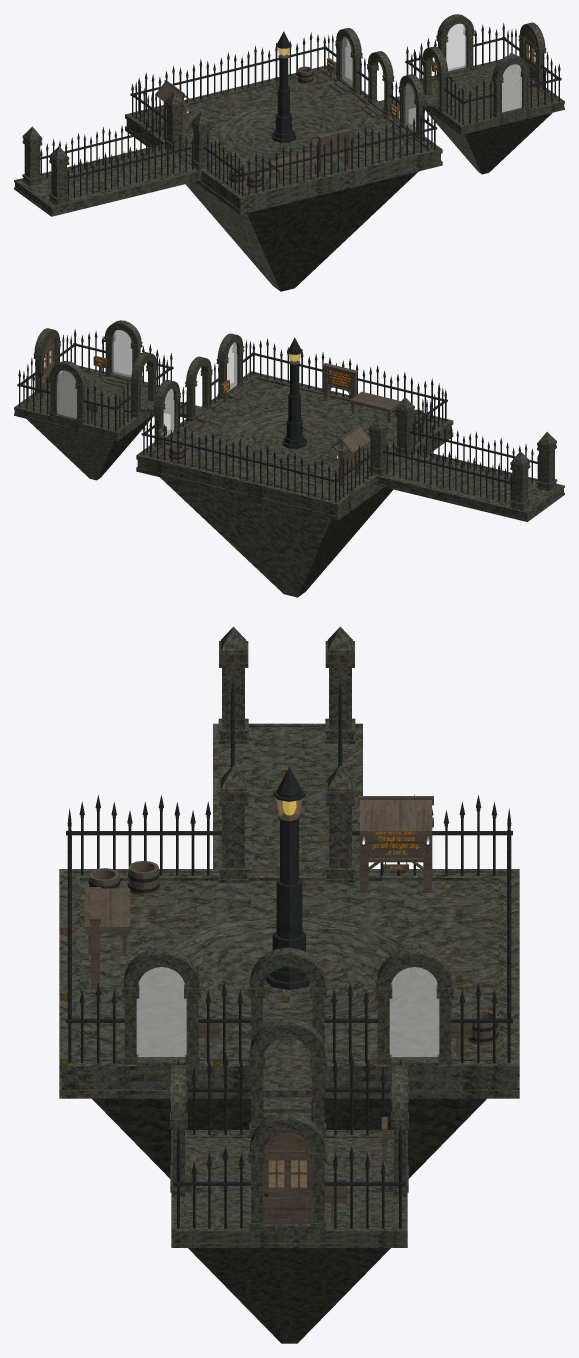
The model's file is Terminal-transformed.glb.
3 views of the same model, one above another, from view 1: azimuth 30°, elevation 25°; view 2: azimuth 150°, elevation 25°; view 3: azimuth 270°, elevation 25° (orthographic). The views are drawn at different scales.
Visible parts, largest first — view 1: Terminal, Lamppost.001, StaticDoors.002, StaticDoors.003, StaticDoors, StaticDoors.001, Door; view 2: Terminal, Lamppost.001, StaticDoors.003, StaticDoors.002, StaticDoors, StaticDoors.001, Door; view 3: Terminal, Lamppost.001, Door, StaticDoors, StaticDoors.001, Barrel.001.
Boxes of the visible parts, bbox=[...] form: Terminal: bbox=[14, 14, 564, 291]; Lamppost.001: bbox=[271, 31, 295, 142]; StaticDoors.002: bbox=[446, 23, 466, 71]; StaticDoors.003: bbox=[502, 64, 521, 112]; StaticDoors: bbox=[342, 36, 352, 86]; StaticDoors.001: bbox=[405, 83, 415, 131]; Door: bbox=[524, 31, 535, 81]; Terminal: bbox=[14, 320, 564, 597]; Lamppost.001: bbox=[282, 337, 306, 448]; StaticDoors.003: bbox=[112, 330, 132, 377]; StaticDoors.002: bbox=[57, 370, 76, 418]; StaticDoors: bbox=[163, 388, 174, 436]; StaticDoors.001: bbox=[227, 342, 237, 391]; Door: bbox=[43, 337, 55, 387]; Terminal: bbox=[59, 626, 519, 1343]; Lamppost.001: bbox=[266, 766, 309, 989]; Door: bbox=[263, 1132, 312, 1223]; StaticDoors: bbox=[389, 967, 439, 1056]; StaticDoors.001: bbox=[136, 967, 186, 1056]; Barrel.001: bbox=[127, 860, 159, 895].
Bounding box in the file's own units: 5.02 × 2.44 × 1.99.
Materials: 8 (4 with a texture image).
